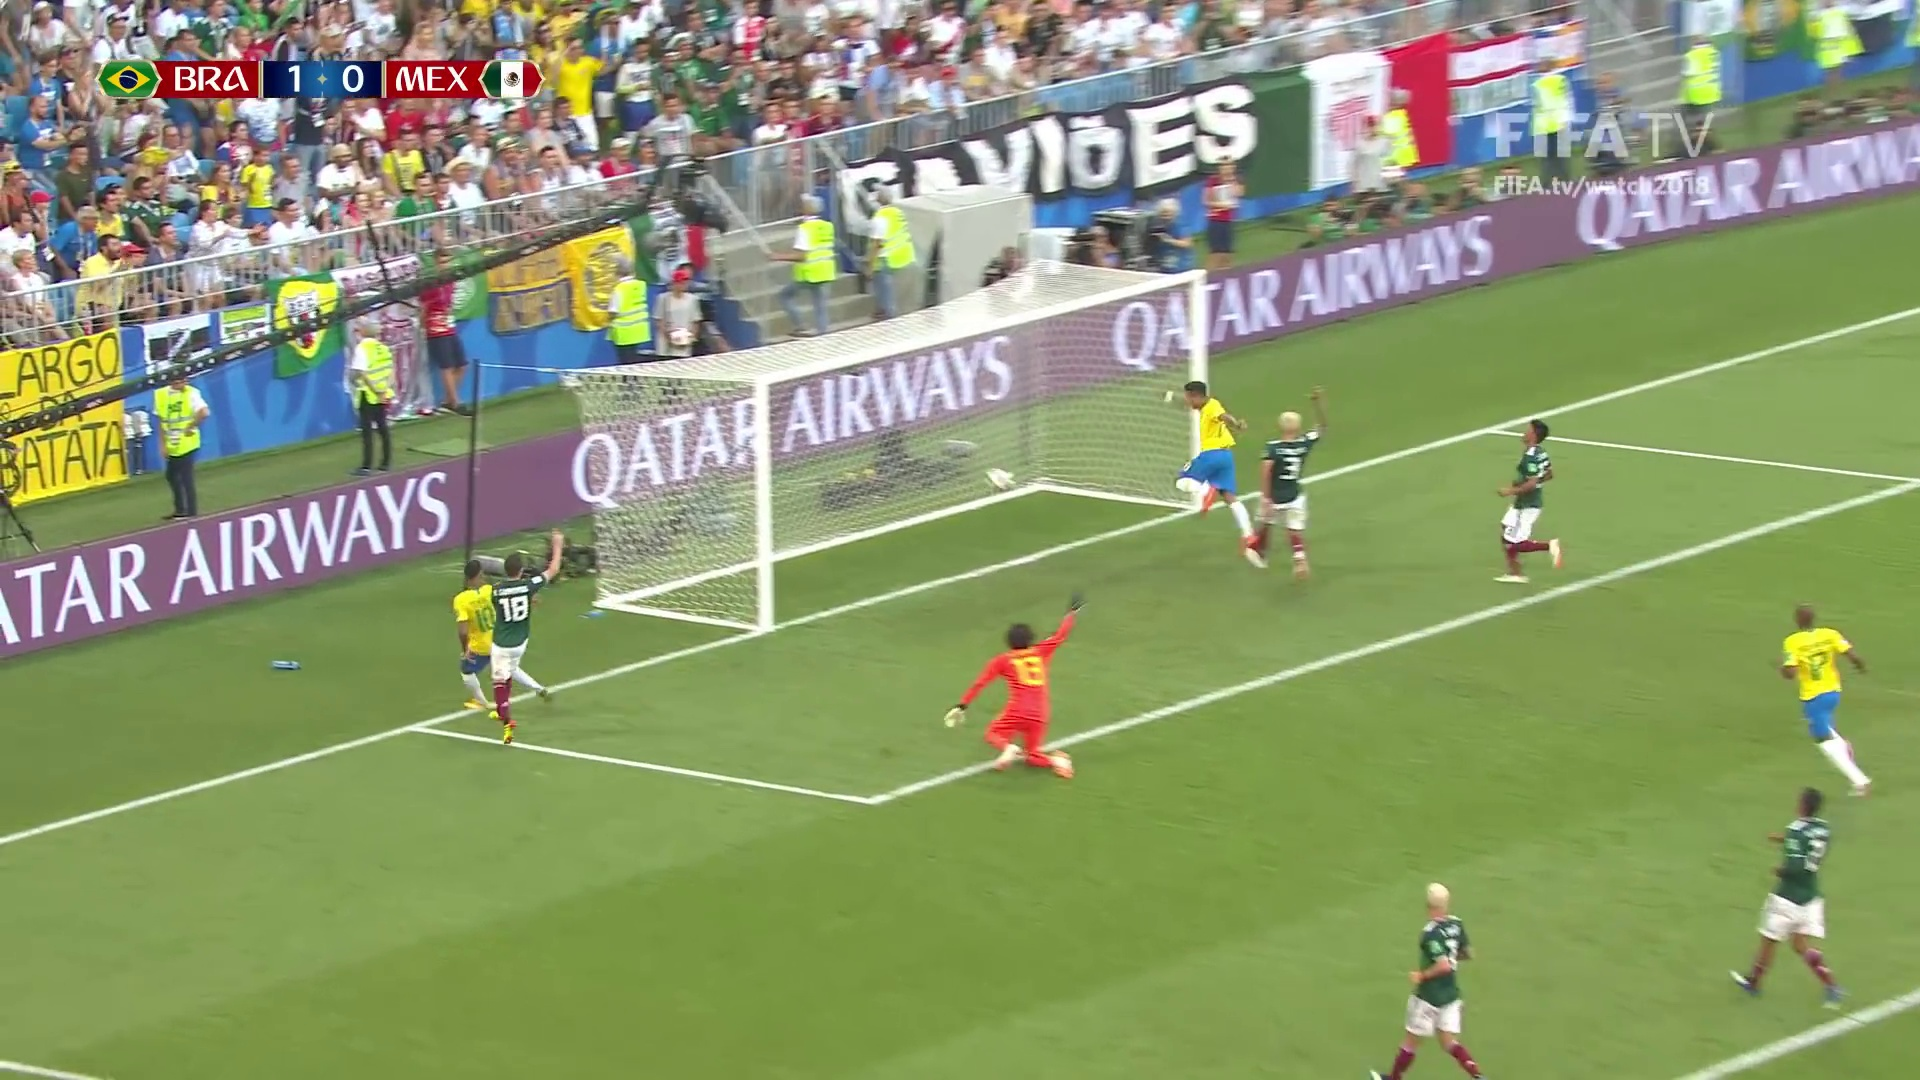ball: (986, 469, 1010, 492)
person: (943, 620, 1073, 776), (1382, 884, 1484, 1080), (1748, 786, 1840, 1005), (1782, 613, 1873, 793), (1161, 384, 1257, 551), (1492, 422, 1559, 580), (1257, 401, 1315, 572), (493, 551, 529, 742), (454, 559, 498, 708)
